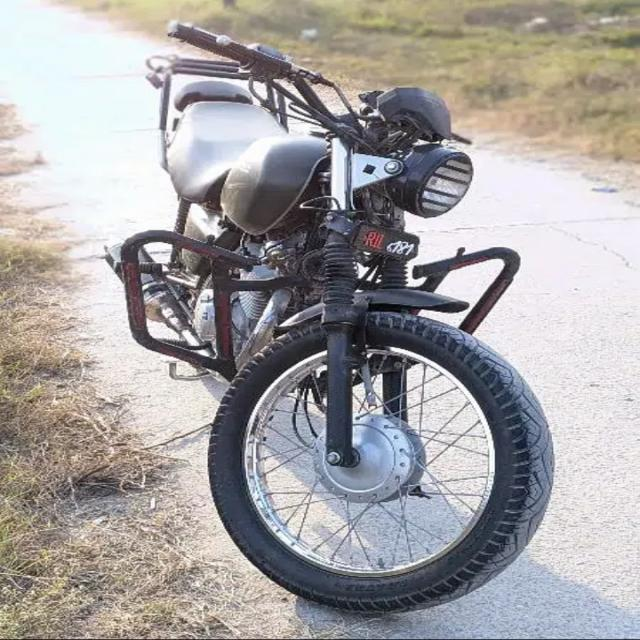Bike: (104, 33, 569, 622)
